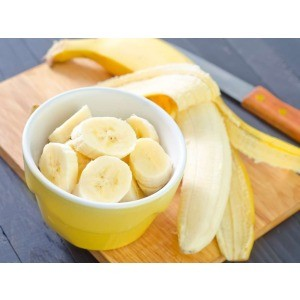banana_brain food: (46, 102, 165, 187)
